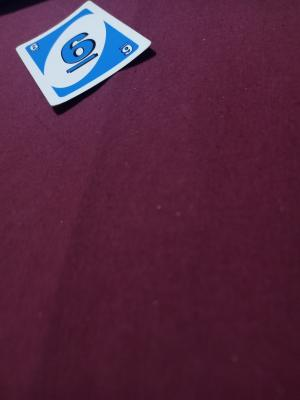blue: (33, 38, 129, 65)
num_6: (118, 40, 138, 57), (27, 43, 41, 54)
